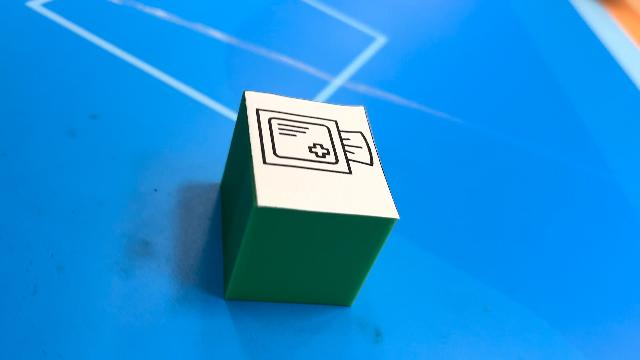napkin: (218, 88, 402, 308)
